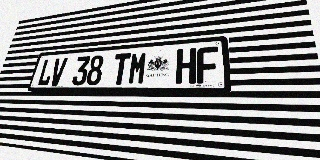3: (71, 56, 91, 85)
8: (85, 55, 105, 85)
F: (196, 46, 219, 84)
H: (175, 48, 196, 84)
L: (36, 58, 56, 86)
M: (127, 52, 148, 85)
T: (111, 53, 131, 85)
V: (48, 58, 68, 86)
